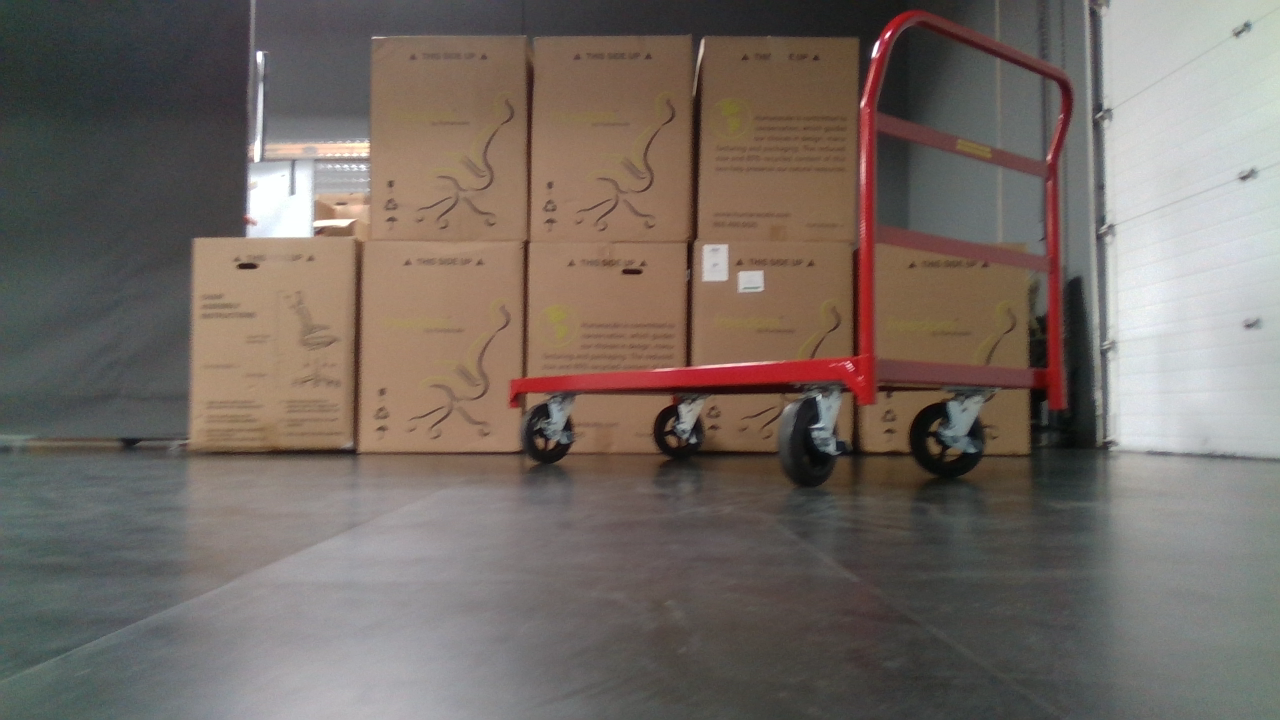Dolly: (508, 10, 1056, 492)
Wheel: (773, 396, 846, 489), (908, 392, 986, 479), (520, 393, 577, 463), (653, 401, 706, 462)
